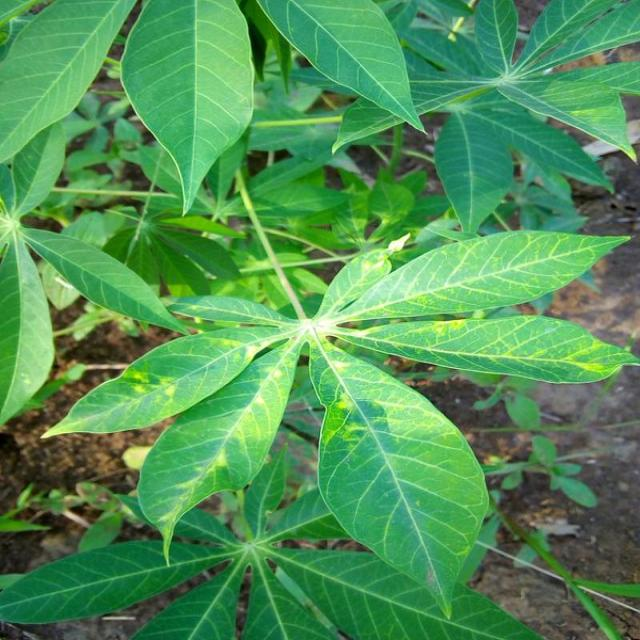cassava leaf: (1, 1, 638, 637), (307, 335, 490, 618), (120, 0, 254, 217), (333, 227, 631, 323), (257, 0, 427, 147)
